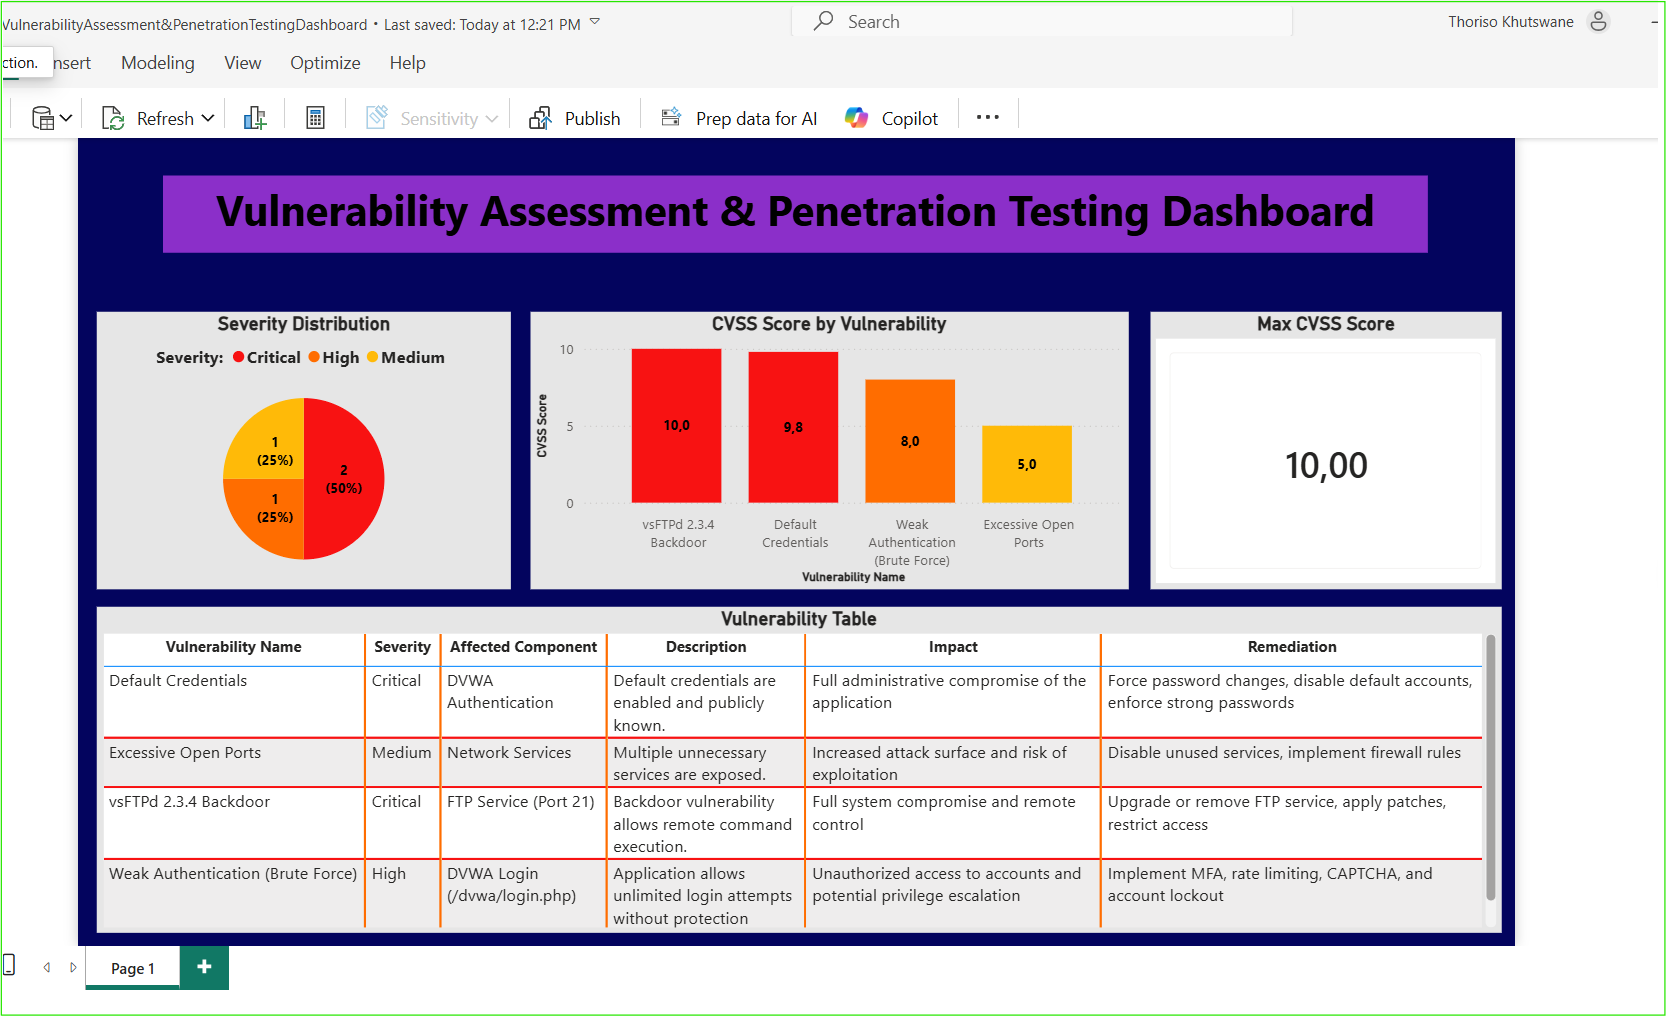

Layout of this report page (visuals, bound fields, positions):
{"tool":"powerbi","page":{"name":"Page 1","canvas":[1280,720],"ordinal":0},"visuals":[{"type":"textbox","box":[75.5,32.9,1126.6,68.6],"z":0},{"type":"pieChart","title":"Severity Distribution","fields":{"Category":["Vulnerability_Report.Severity"],"Y":["CountNonNull(Vulnerability_Report.ID)"]},"box":[16.5,155.1,369.1,247],"z":1},{"type":"columnChart","title":"CVSS Score by Vulnerability","fields":{"Category":["Vulnerability_Report.Vulnerability Name"],"Y":["Sum(Vulnerability_Report.CVSS Score)"]},"box":[403.4,155.1,532.4,247],"z":2},{"type":"tableEx","title":"Vulnerability Table","fields":{"Values":["Vulnerability_Report.Vulnerability Name","Vulnerability_Report.Severity","Vulnerability_Report.Affected Component","Vulnerability_Report.Description","Vulnerability_Report.Impact","Vulnerability_Report.Remediation"]},"box":[16.3,417.4,1251.2,290.7],"z":3},{"type":"cardVisual","title":"Max CVSS Score","fields":{"Data":["Max(Vulnerability_Report.CVSS Score)"]},"box":[955.1,155.1,312.9,247],"z":4}]}

Visuals, with their boxes on the page's 1280x720 design canvas (x1, y1, x2, y2). These are canvas units, not pixel positions in the 1666x1016 screenshot, which may show the page scaled, cropped or inside an application window:
textbox: 76,33,1202,102
"Severity Distribution" pieChart: 16,155,386,402
"CVSS Score by Vulnerability" columnChart: 403,155,936,402
"Vulnerability Table" tableEx: 16,417,1268,708
"Max CVSS Score" cardVisual: 955,155,1268,402
